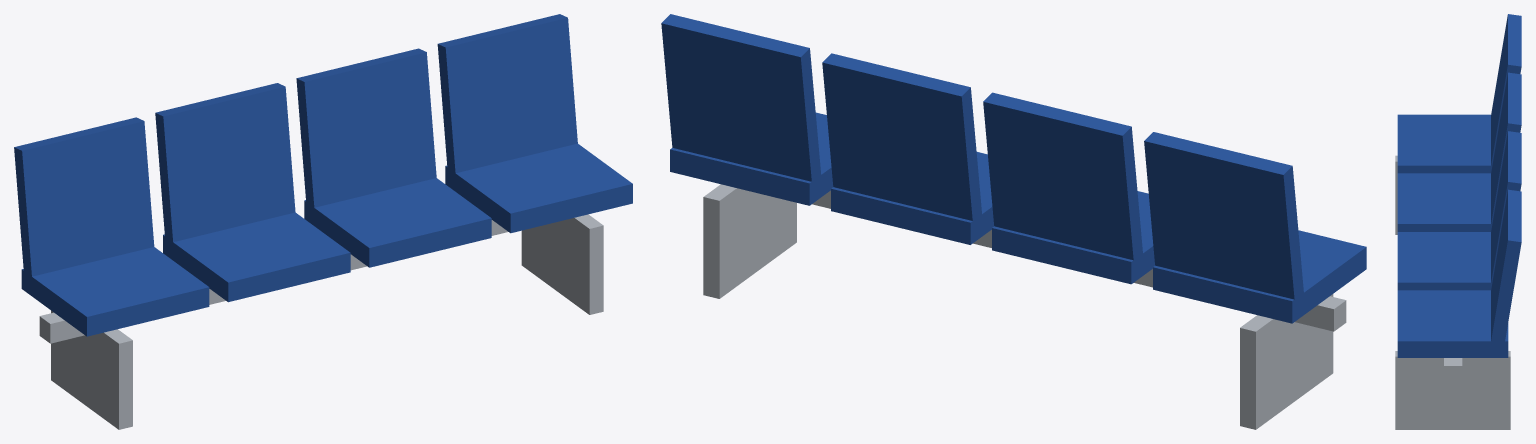
File: gate_seats.glb
3 views of the same model, side by side, from view 1: azimuth 30°, elevation 25°; view 2: azimuth 150°, elevation 25°; view 3: azimuth 270°, elevation 25° (orthographic). The views are drawn at different scales.
Visible parts, largest first — view 1: seats_airport_blue, legs_scale_steel, beam_scale_steel; view 2: seats_airport_blue, legs_scale_steel, beam_scale_steel; view 3: seats_airport_blue, legs_scale_steel, beam_scale_steel.
Part boxes in pixels (x1=…): seats_airport_blue: x1=14, y1=14, x2=632, y2=336; legs_scale_steel: x1=51, y1=214, x2=603, y2=429; beam_scale_steel: x1=39, y1=220, x2=507, y2=343; seats_airport_blue: x1=661, y1=14, x2=1366, y2=323; legs_scale_steel: x1=703, y1=184, x2=1333, y2=429; beam_scale_steel: x1=812, y1=190, x2=1346, y2=331; seats_airport_blue: x1=1397, y1=14, x2=1521, y2=357; legs_scale_steel: x1=1395, y1=155, x2=1510, y2=429; beam_scale_steel: x1=1444, y1=358, x2=1462, y2=382.
Size of the model in its own units: 2.4 by 0.9667 by 0.547.
